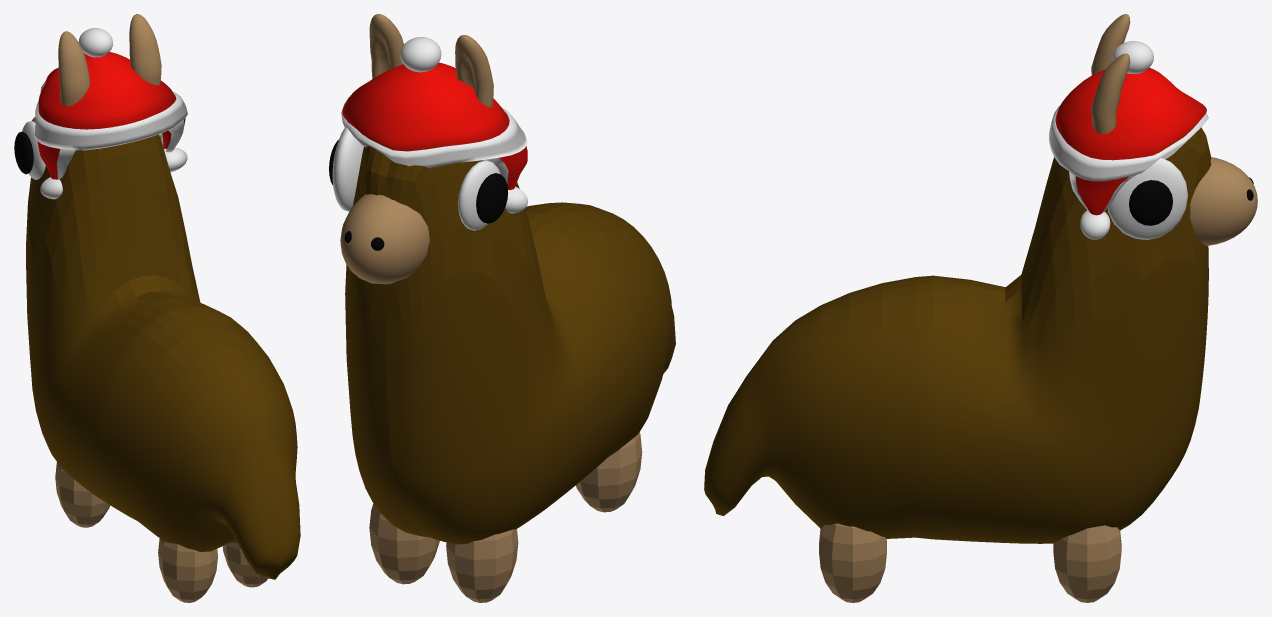
The model's file is LLamaPlaceholder.fbx.
The picture shows the model from 3 angles, left to right: view 1: azimuth 30°, elevation 25°; view 2: azimuth 150°, elevation 25°; view 3: azimuth 270°, elevation 25°; orthographic projection. The views are drawn at different scales.
Parts seen in each view (by area): view 1: pSphere19; view 2: pSphere19; view 3: pSphere19.
Part boxes in pixels (x1=…): pSphere19: x1=14, y1=14, x2=300, y2=602; pSphere19: x1=329, y1=14, x2=675, y2=602; pSphere19: x1=704, y1=14, x2=1257, y2=602.
Size of the model in its own units: 17.46 by 45.43 by 41.46.
